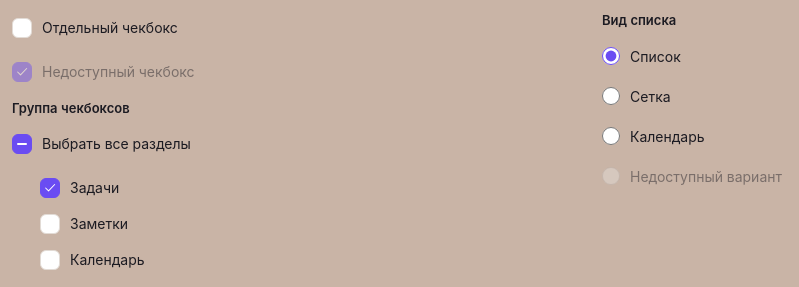
Test: reflects partial group selection and lets the owner select or clear the entire group
The width and height of the screenshot is (799, 287).
Click the checkbox labelled "Выбрать все разделы": [101, 144] box [12,134,191,154]
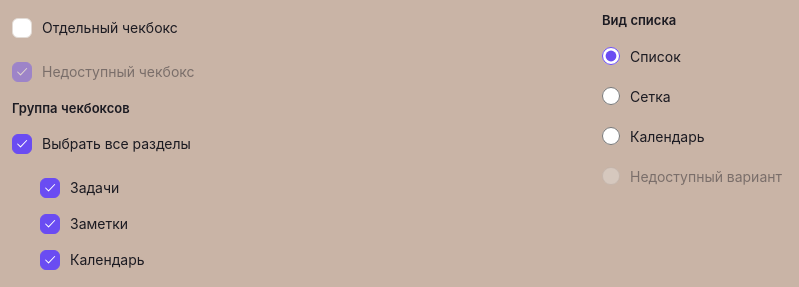
Expected: the checkbox labelled "Задачи" is checked, [40,178,119,198]
Result: the checkbox labelled "Выбрать все разделы" is checked
Result: the checkbox labelled "Заметки" is checked at [40,214,128,234]
Click the checkbox labelled "Выбрать все разделы": [101, 144] box [12,134,191,154]
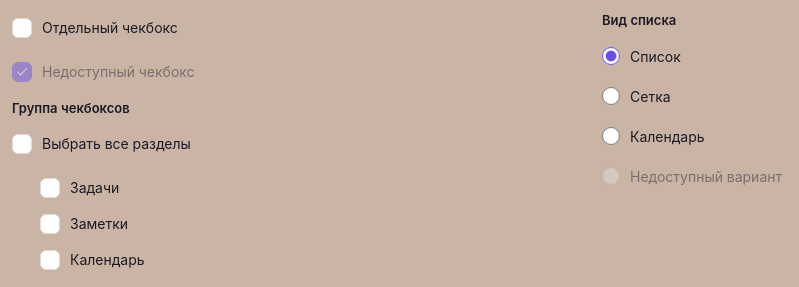
Result: the checkbox labelled "Календарь" is not checked at [40,250,145,270]
